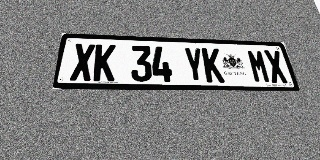3: (131, 45, 152, 82)
4: (151, 46, 173, 82)
K: (93, 44, 116, 81), (201, 48, 225, 82)
M: (246, 49, 272, 83)
X: (70, 43, 95, 81), (263, 50, 289, 83)
Y: (183, 47, 206, 82)
